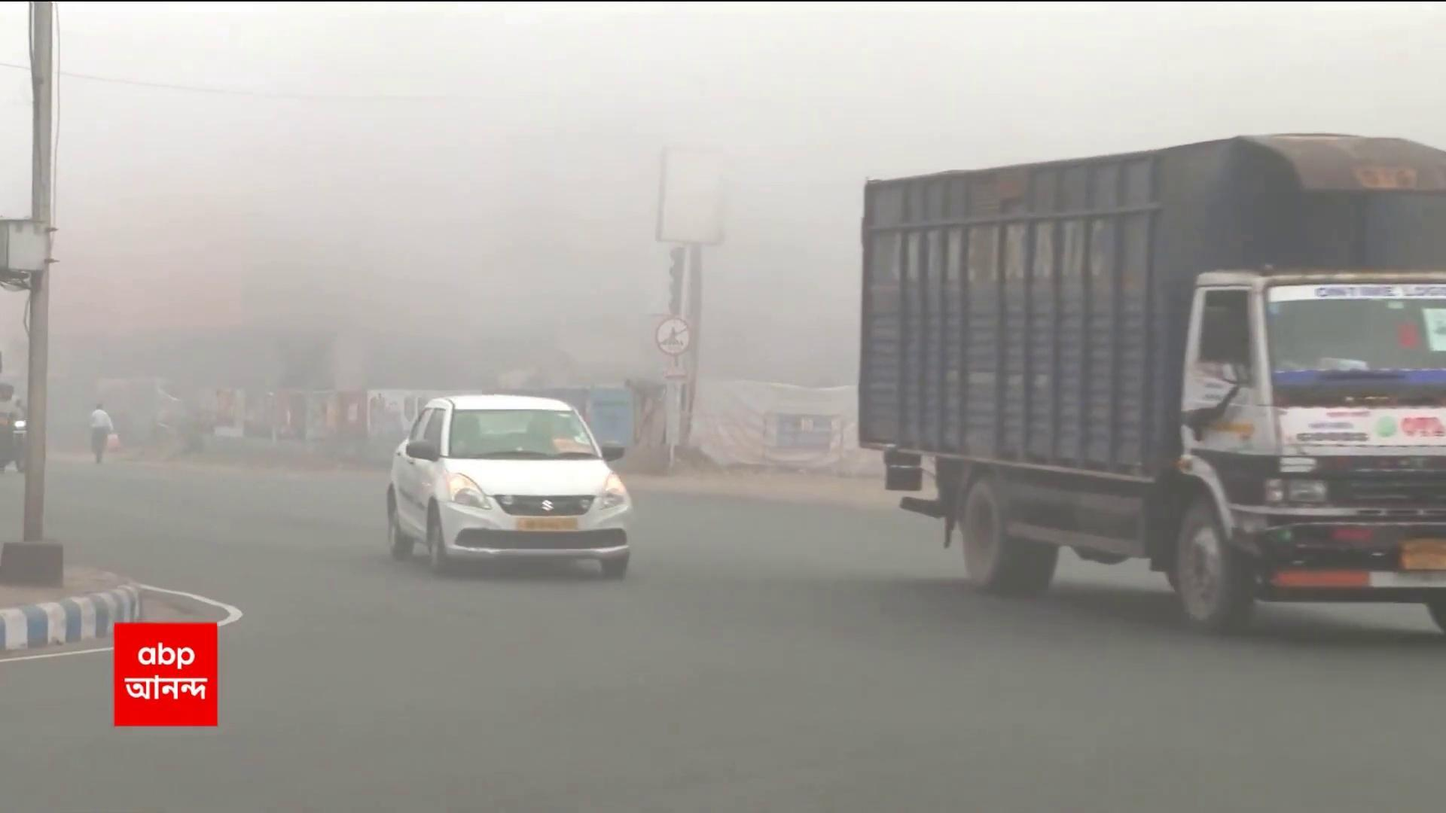Car: (384, 393, 635, 582)
Truck: (856, 129, 1446, 638)
